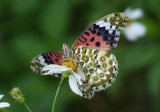Argyreus hyperbius: (26, 9, 132, 98)
butterfly: (28, 11, 134, 100)
